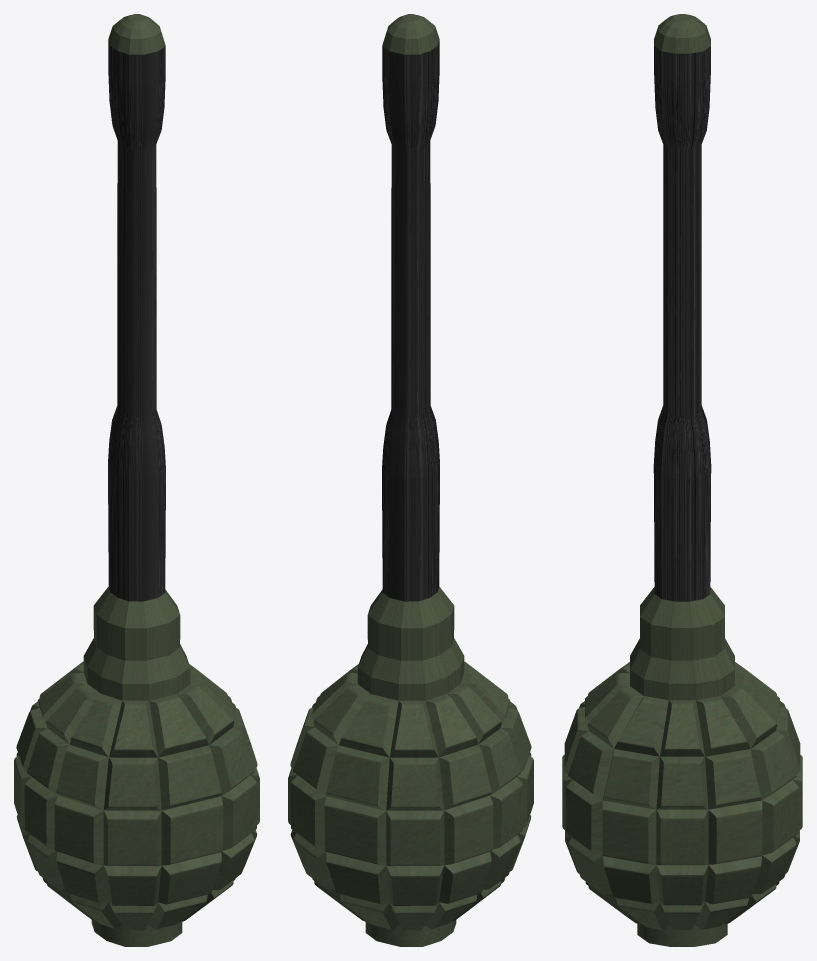
File: grenade.fbx
3 renders of one model, left to right at view 1: azimuth 30°, elevation 25°; view 2: azimuth 150°, elevation 25°; view 3: azimuth 270°, elevation 25°, orthographic.
Parts seen in each view (by area): view 1: pasted__pCylinder2; view 2: pasted__pCylinder2; view 3: pasted__pCylinder2.
Part boxes in pixels (box(x1,y1,x2,y2)): pasted__pCylinder2: box(14, 14, 259, 946); pasted__pCylinder2: box(288, 14, 533, 946); pasted__pCylinder2: box(562, 14, 802, 946).
Size of the model in its own units: 5.45 by 23.35 by 5.58.
Materials: 2 (2 with a texture image).
